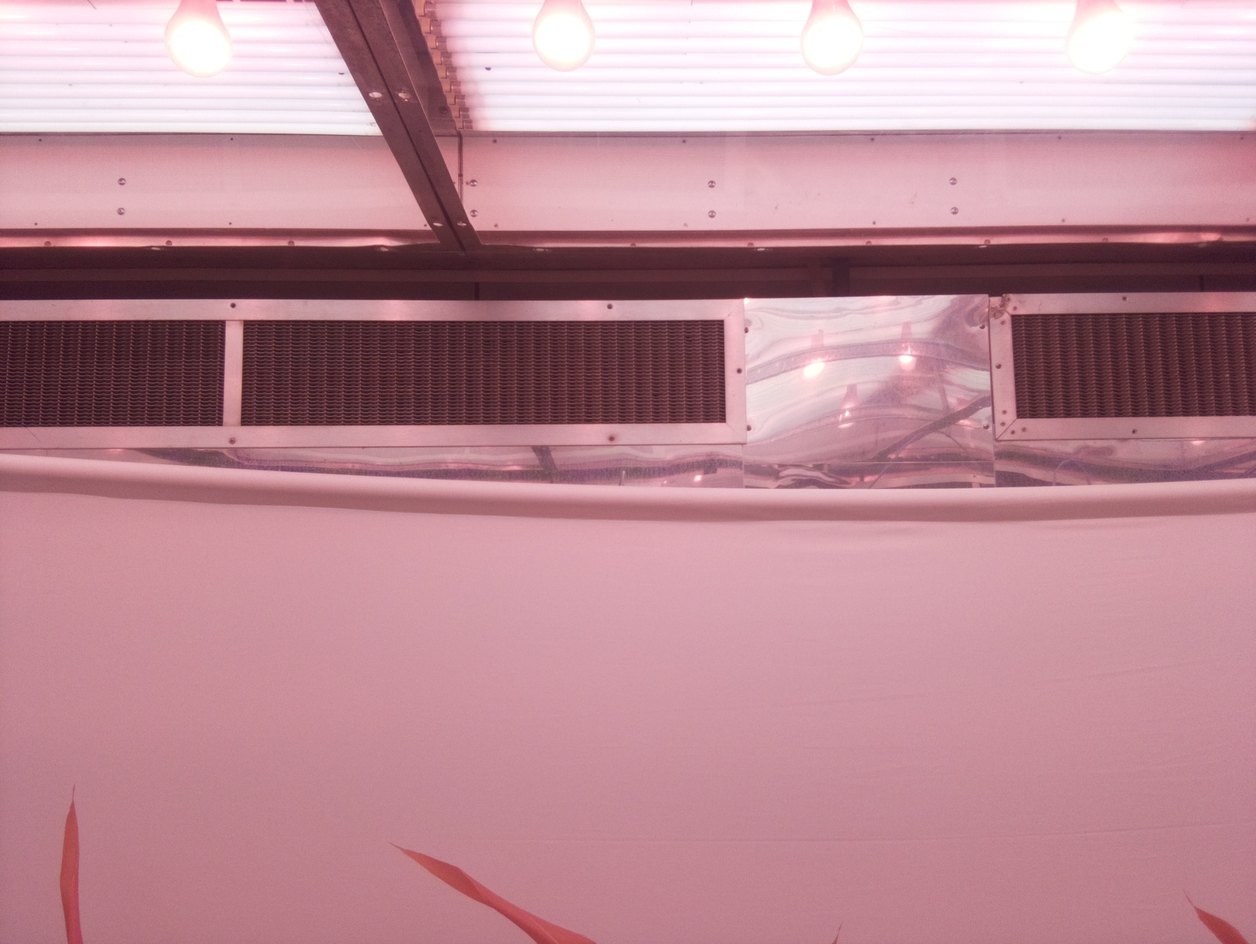maize: (388, 841, 599, 944), (58, 785, 86, 944), (1182, 888, 1251, 944), (830, 923, 845, 944)
